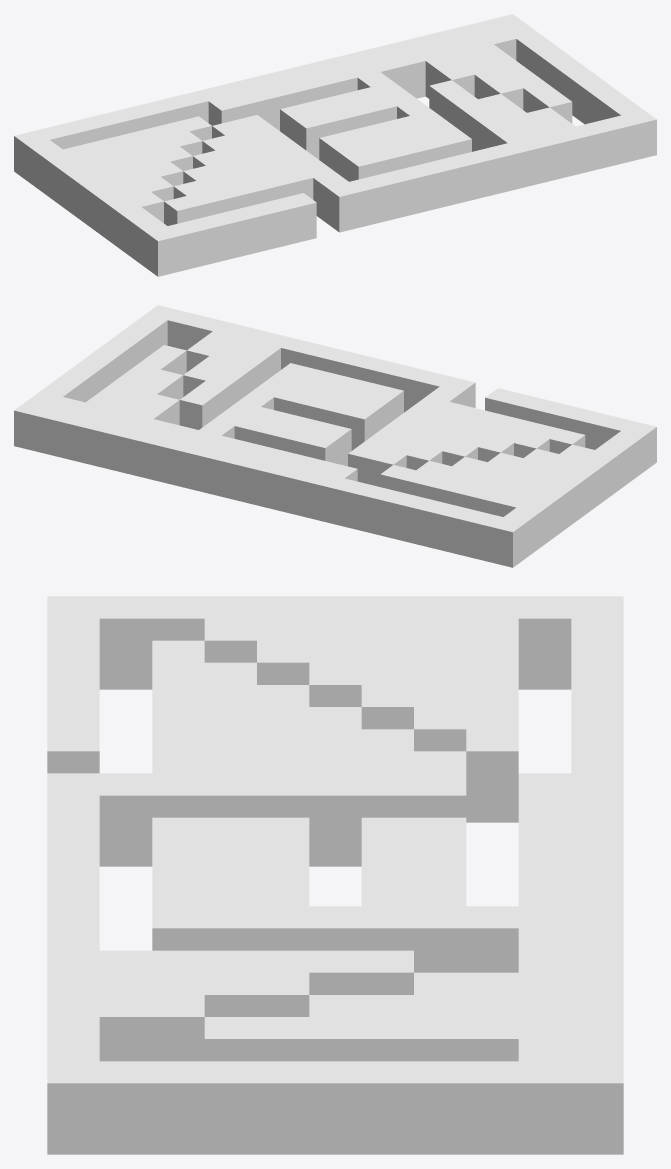
Rendered from Title.obj.
3 views of the same model, one above another, from view 1: azimuth 30°, elevation 25°; view 2: azimuth 150°, elevation 25°; view 3: azimuth 270°, elevation 25° (orthographic). The views are drawn at different scales.
Bounding box in the file's own units: 44 × 3 × 22.
Materials: 1 (1 with a texture image).
